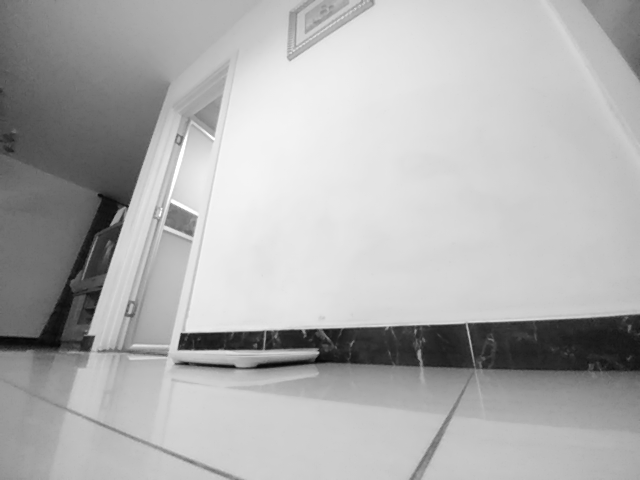scale: (168, 346, 319, 369)
